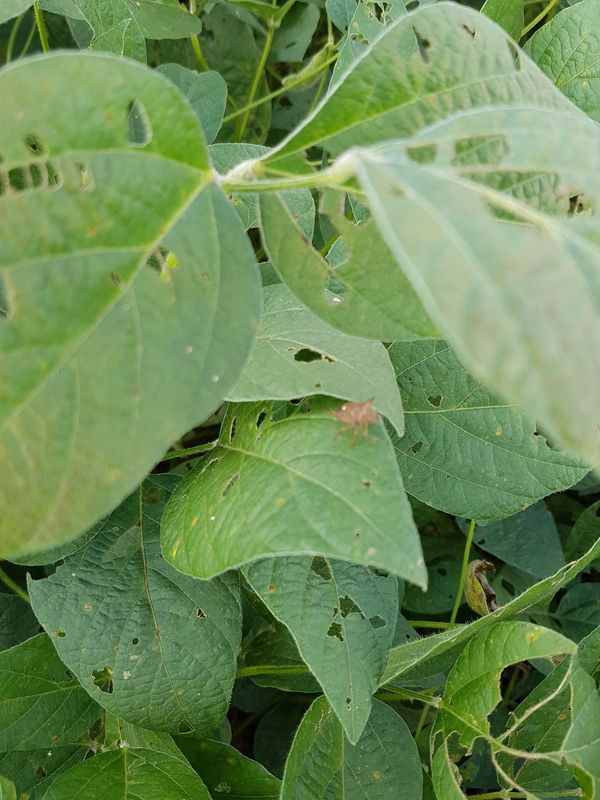Euschistus_heros_adulto: (322, 392, 389, 450)
